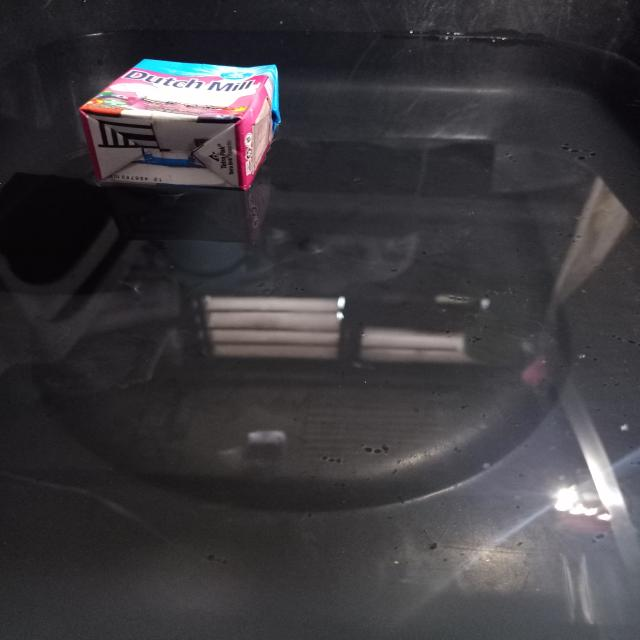Cardboard Box: (79, 59, 280, 190)
